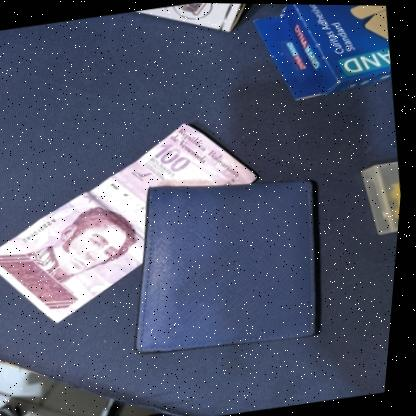one_hundred-front-vef: (0, 108, 282, 336)
